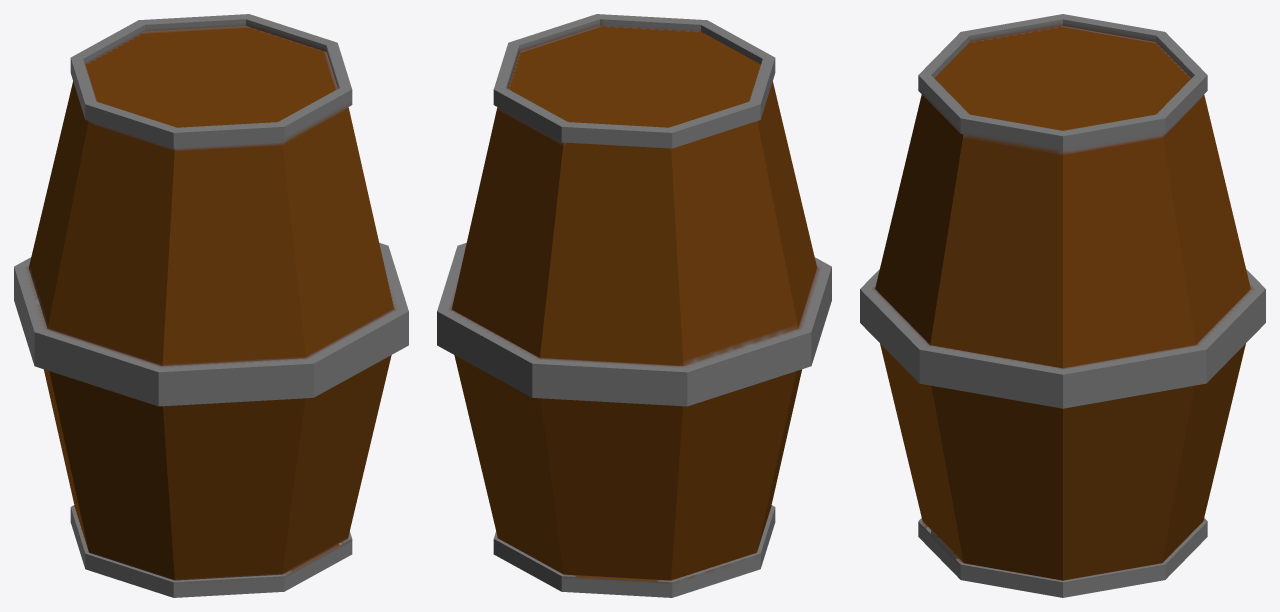
The model's file is Barrel.fbx.
3 views of the same model, side by side, from view 1: azimuth 30°, elevation 25°; view 2: azimuth 150°, elevation 25°; view 3: azimuth 270°, elevation 25° (orthographic).
Parts seen in each view (by area): view 1: Barrel; view 2: Barrel; view 3: Barrel.
Boxes of the visible parts, left/top/right/bottom form: Barrel: left=14, top=14, right=408, bottom=597; Barrel: left=437, top=14, right=831, bottom=597; Barrel: left=860, top=14, right=1265, bottom=597.
Size of the model in its own units: 57.81 by 72.57 by 57.81.
2 materials, 2 textured.
